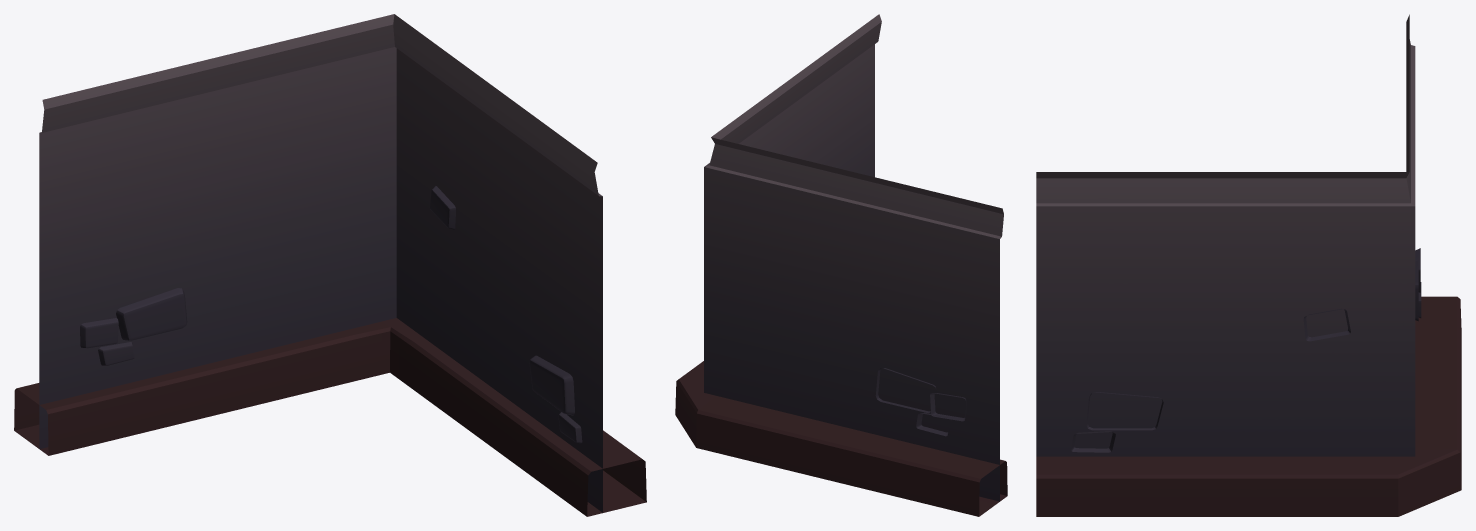
The model's file is SM_Corner_Piece_Tall.fbx.
The picture shows the model from 3 angles, left to right: view 1: azimuth 30°, elevation 25°; view 2: azimuth 150°, elevation 25°; view 3: azimuth 270°, elevation 25°; orthographic projection. The views are drawn at different scales.
Parts seen in each view (by area): view 1: SM_CornerPiece; view 2: SM_CornerPiece; view 3: SM_CornerPiece.
Boxes of the visible parts, bbox=[...] form: SM_CornerPiece: bbox=[14, 14, 646, 516]; SM_CornerPiece: bbox=[675, 14, 1007, 516]; SM_CornerPiece: bbox=[1036, 14, 1461, 516].
Size of the model in its own units: 235 by 197 by 235.
1 material, 1 textured.
